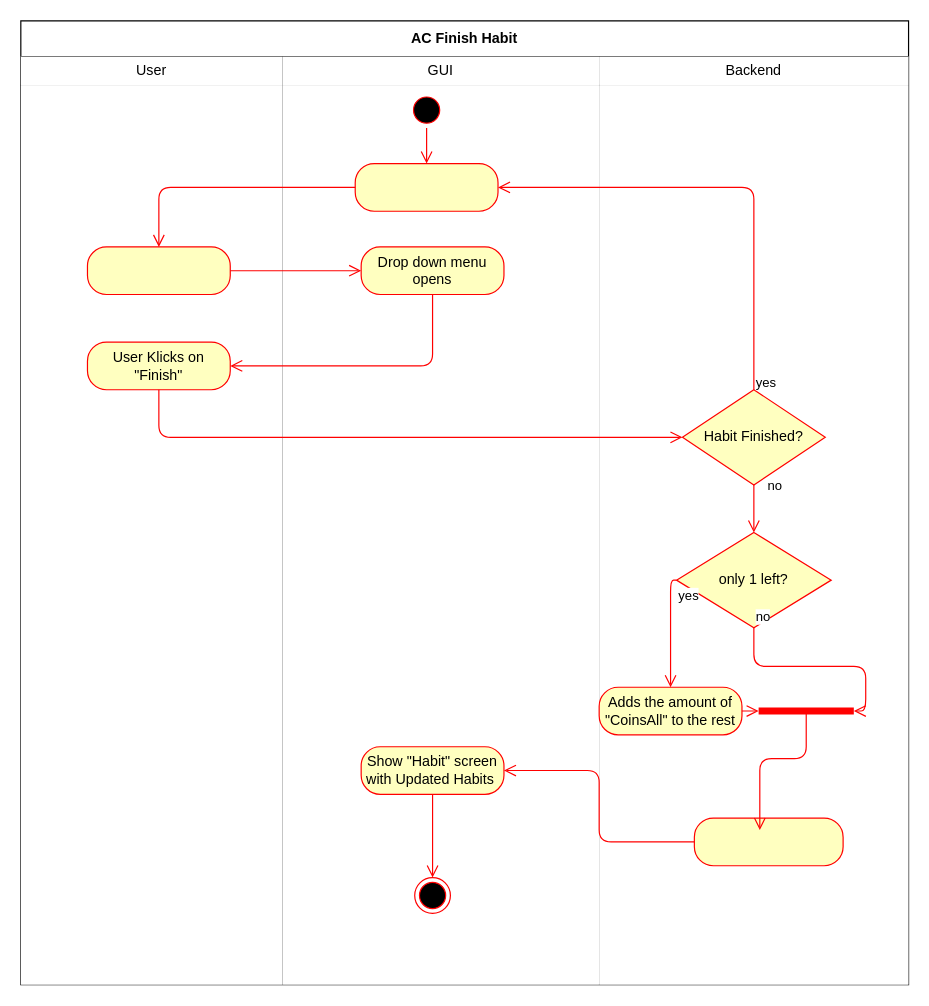
Some shapes in this 929 by 1006 pixel diagram are drawn without their labels. Each missing label, with the centre of its shape:
Adds the amount of "CoinsOne" to the rest: point (768, 841)
Show "Start" screen: point (426, 186)
User holds on Habit: point (158, 270)
